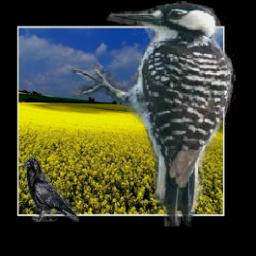Crow: (23, 157, 79, 222)
Woodpecker: (67, 1, 241, 227)
